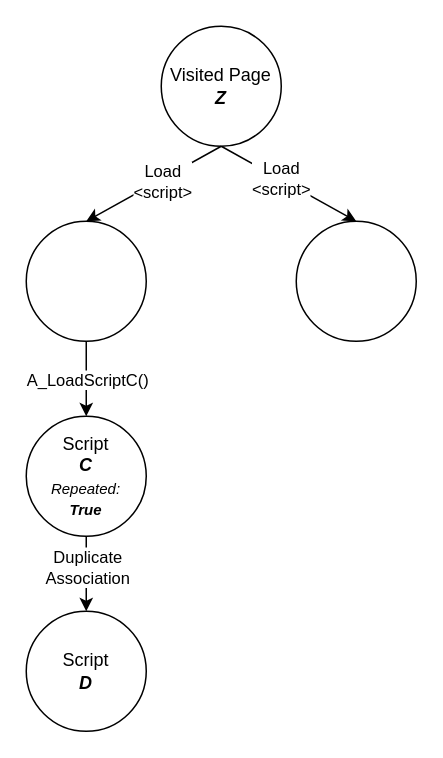
Some shapes in this 443 by 758 pixel diagram are drawn without their labels. The shapes that lost their labels are listed below. From the top down, each one's centre as x and y in pixels, then its label:
(85,280): Script A
(355,280): Script B Repeated: True
